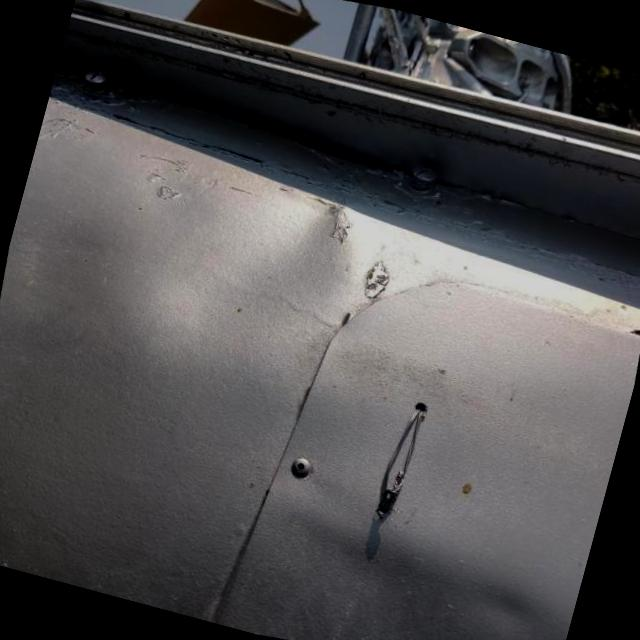dent: (122, 145, 394, 400)
